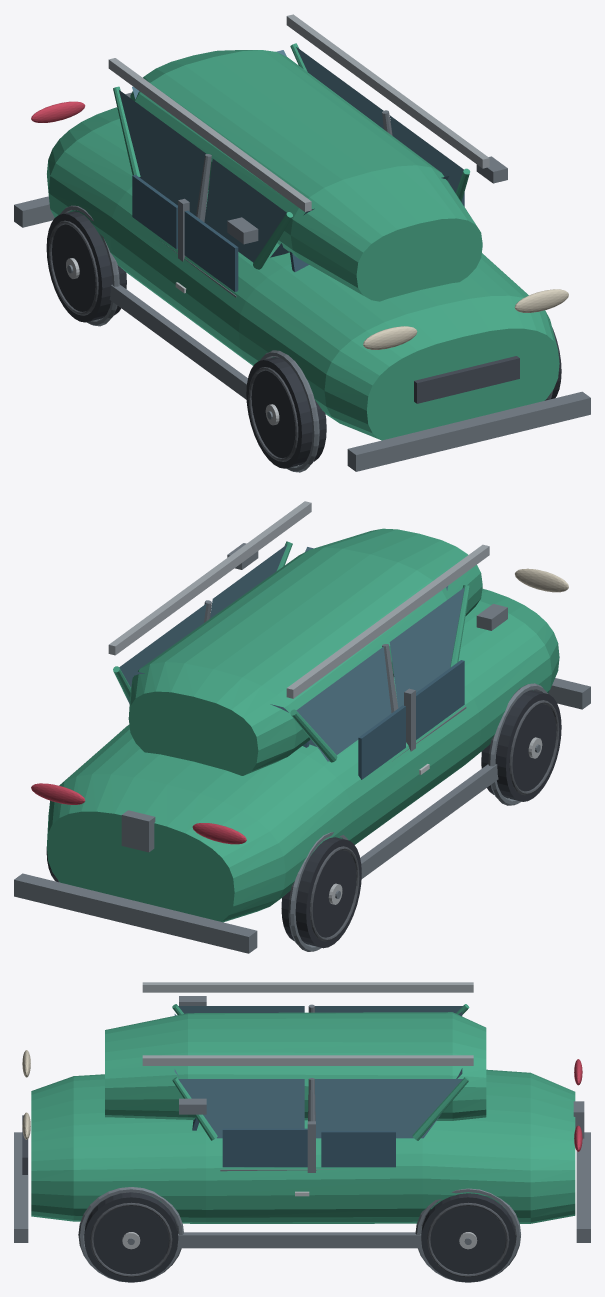
The model's file is suv.glb.
3 renders of one model, top to bottom at view 1: azimuth 30°, elevation 25°; view 2: azimuth 150°, elevation 25°; view 3: azimuth 270°, elevation 25°, orthographic. The views are drawn at different scales.
Visible parts, largest first — view 1: suv_body, suv_roof_shell, suv_front_bumper, suv_wheel_-1_1_tire_core, suv_front_side_window_-1, suv_wheel_-1_0_tire_core, suv_rear_side_window_-1, suv_roof_rail_-1, suv_roof_rail_1, suv_side_skirt_-1, suv_side_glass_front_insert_-1, suv_front_grille (+14 smaller); view 2: suv_body, suv_roof_shell, suv_rear_bumper, suv_front_side_window_-1, suv_wheel_-1_0_tire_core, suv_wheel_-1_1_tire_core, suv_rear_side_window_-1, suv_roof_rail_-1, suv_roof_rail_1, suv_side_skirt_-1, suv_side_glass_front_insert_-1, suv_side_glass_rear_insert_-1 (+13 smaller); view 3: suv_body, suv_roof_shell, suv_front_side_window_1, suv_wheel_1_1_tire_core, suv_wheel_1_0_tire_core, suv_rear_side_window_1, suv_side_skirt_1, suv_roof_rail_-1, suv_roof_rail_1, suv_side_glass_front_insert_1, suv_side_glass_rear_insert_1, suv_rear_bumper (+11 smaller).
Boxes of the visible parts, x1=… form: suv_body: x1=47, y1=107, x2=559, y2=440; suv_roof_shell: x1=130, y1=50, x2=482, y2=301; suv_front_bumper: x1=347, y1=391, x2=590, y2=471; suv_wheel_-1_1_tire_core: x1=246, y1=357, x2=326, y2=468; suv_front_side_window_-1: x1=119, y1=90, x2=205, y2=215; suv_wheel_-1_0_tire_core: x1=46, y1=211, x2=126, y2=322; suv_rear_side_window_-1: x1=204, y1=158, x2=286, y2=262; suv_roof_rail_-1: x1=108, y1=58, x2=311, y2=211; suv_roof_rail_1: x1=286, y1=14, x2=489, y2=168; suv_side_skirt_-1: x1=109, y1=284, x2=247, y2=399; suv_side_glass_front_insert_-1: x1=184, y1=210, x2=238, y2=291; suv_front_grille: x1=414, y1=356, x2=519, y2=403; suv_body: x1=46, y1=588, x2=559, y2=922; suv_roof_shell: x1=128, y1=528, x2=482, y2=775; suv_rear_bumper: x1=14, y1=873, x2=257, y2=953; suv_front_side_window_-1: x1=296, y1=647, x2=391, y2=761; suv_wheel_-1_0_tire_core: x1=281, y1=837, x2=361, y2=948; suv_wheel_-1_1_tire_core: x1=481, y1=690, x2=561, y2=801; suv_rear_side_window_-1: x1=389, y1=587, x2=464, y2=707; suv_roof_rail_-1: x1=286, y1=544, x2=489, y2=698; suv_roof_rail_1: x1=108, y1=501, x2=311, y2=655; suv_side_skirt_-1: x1=360, y1=764, x2=498, y2=878; suv_side_glass_front_insert_-1: x1=416, y1=660, x2=464, y2=739; suv_side_glass_rear_insert_-1: x1=358, y1=705, x2=405, y2=779; suv_body: x1=31, y1=1069, x2=575, y2=1223; suv_roof_shell: x1=105, y1=1012, x2=486, y2=1120; suv_front_side_window_1: x1=315, y1=1079, x2=462, y2=1138; suv_wheel_1_1_tire_core: x1=84, y1=1192, x2=178, y2=1282; suv_wheel_1_0_tire_core: x1=421, y1=1193, x2=515, y2=1282; suv_rear_side_window_1: x1=178, y1=1079, x2=304, y2=1138; suv_side_skirt_1: x1=177, y1=1232, x2=421, y2=1248; suv_roof_rail_-1: x1=142, y1=982, x2=473, y2=992; suv_roof_rail_1: x1=142, y1=1055, x2=473, y2=1065; suv_side_glass_front_insert_1: x1=222, y1=1128, x2=307, y2=1167; suv_side_glass_rear_insert_1: x1=321, y1=1131, x2=395, y2=1167; suv_rear_bumper: x1=576, y1=1132, x2=590, y2=1242.
Size of the model in its own units: 2.18 by 1.96 by 4.8.
